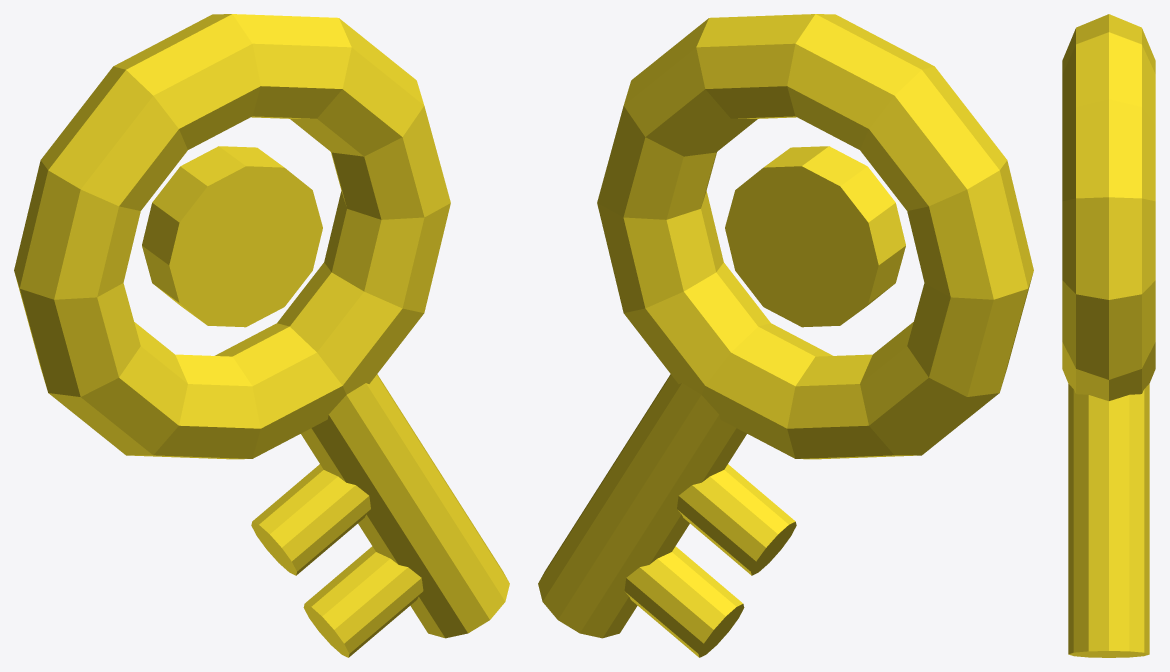
Rendered from Key 1.fbx.
The picture shows the model from 3 angles, left to right: view 1: azimuth 30°, elevation 25°; view 2: azimuth 150°, elevation 25°; view 3: azimuth 270°, elevation 25°; orthographic projection. The views are drawn at different scales.
Visible parts, largest first — view 1: Cylinder.003; view 2: Cylinder.003; view 3: Cylinder.003.
Part boxes in pixels (left/top/right/bottom): Cylinder.003: left=14, top=14, right=509, bottom=657; Cylinder.003: left=538, top=14, right=1033, bottom=657; Cylinder.003: left=1062, top=14, right=1155, bottom=657.
Bounding box in the file's own units: 12.41 × 16.38 × 2.52.
